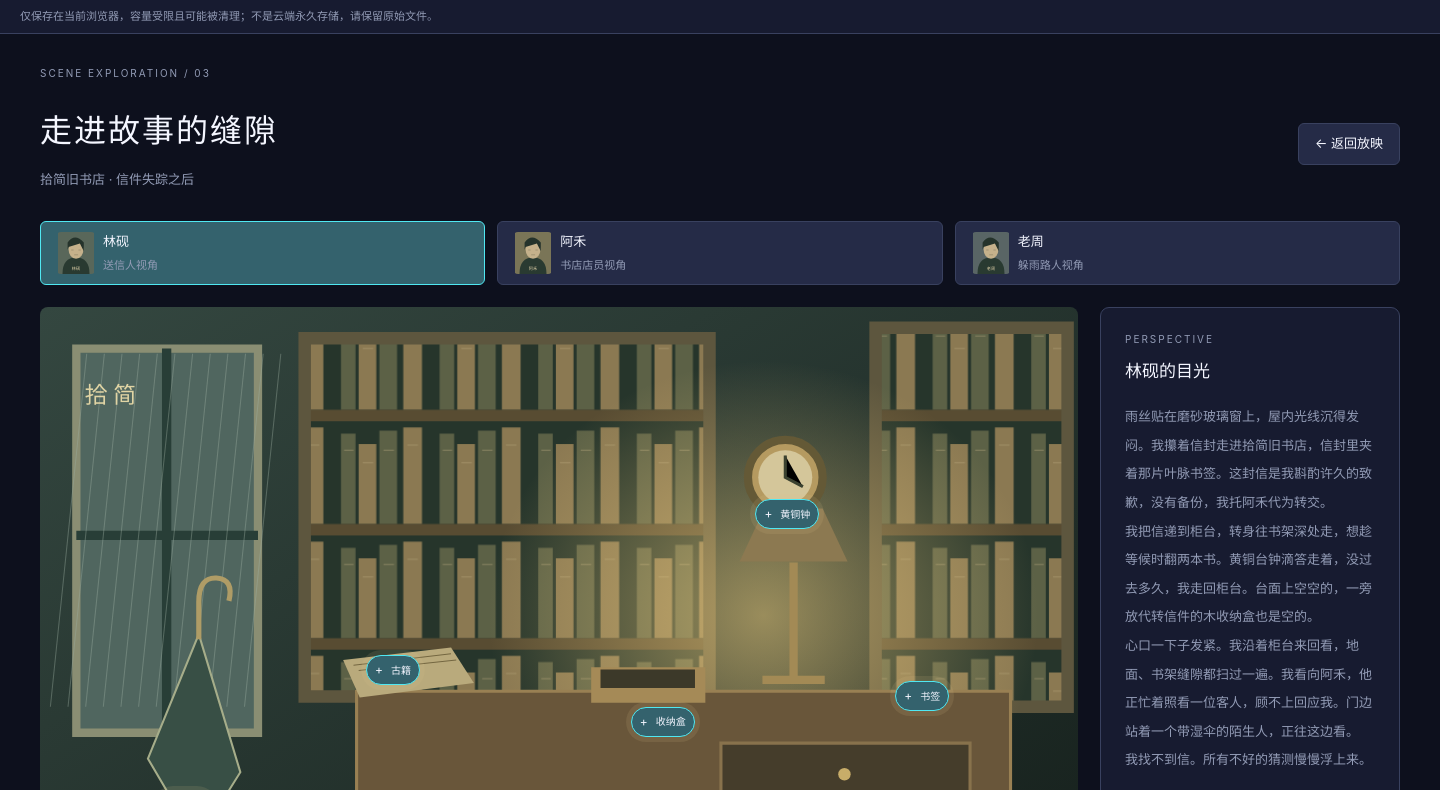
Test: 角色切换与客观线索正文一致
The image size is (1440, 790).
Click the button "阿禾": (533,253) [497,221,943,285]
(page scrolled)
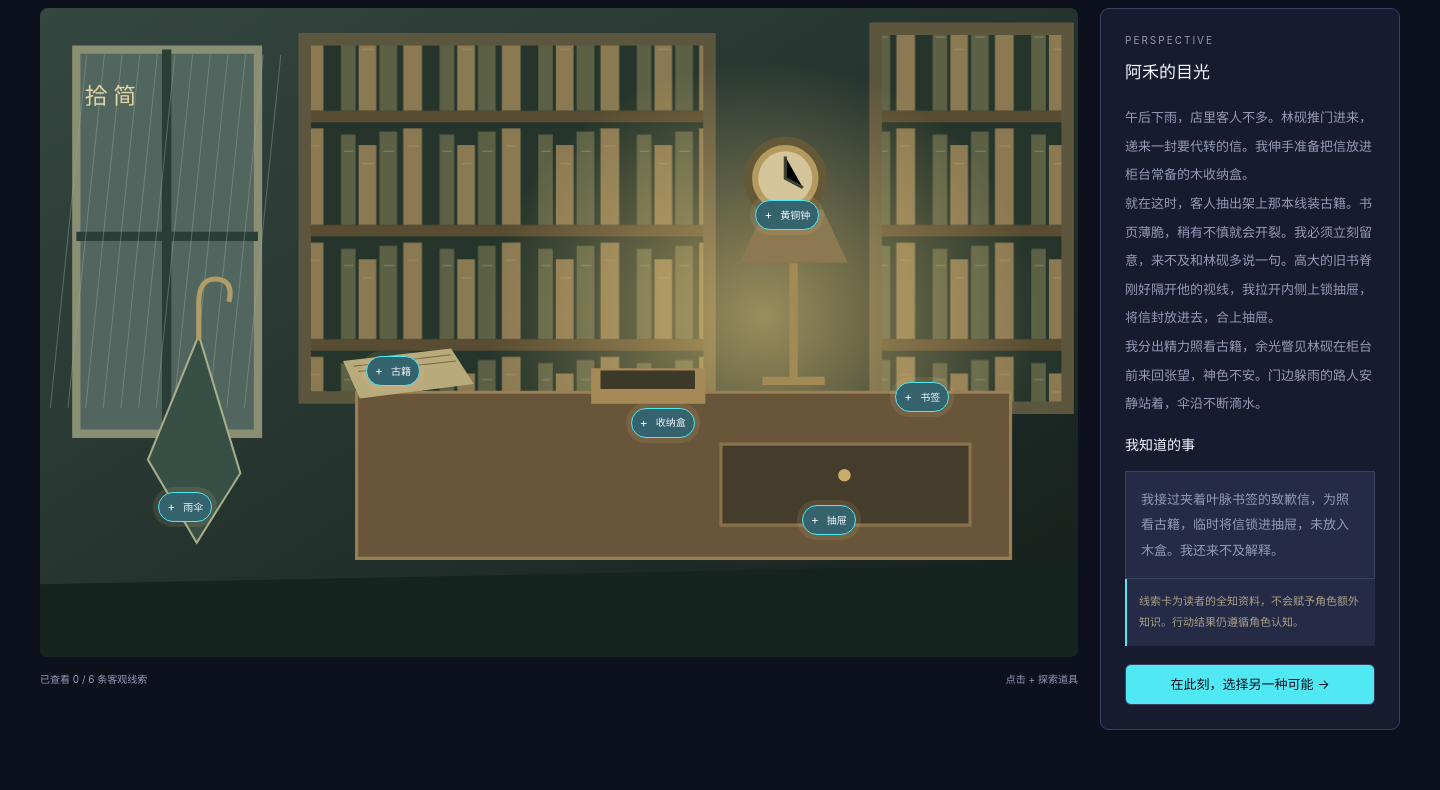
Check: the text "我接过夹着叶脉书签的致歉信，为照看古籍，临时将信锁进抽屉，未放入木盒。我还来不及解释。" is shown, box [1125,471,1375,579]
Click the button "+ 抽屉": (829,520) [802,505,856,535]
(page scrolled)
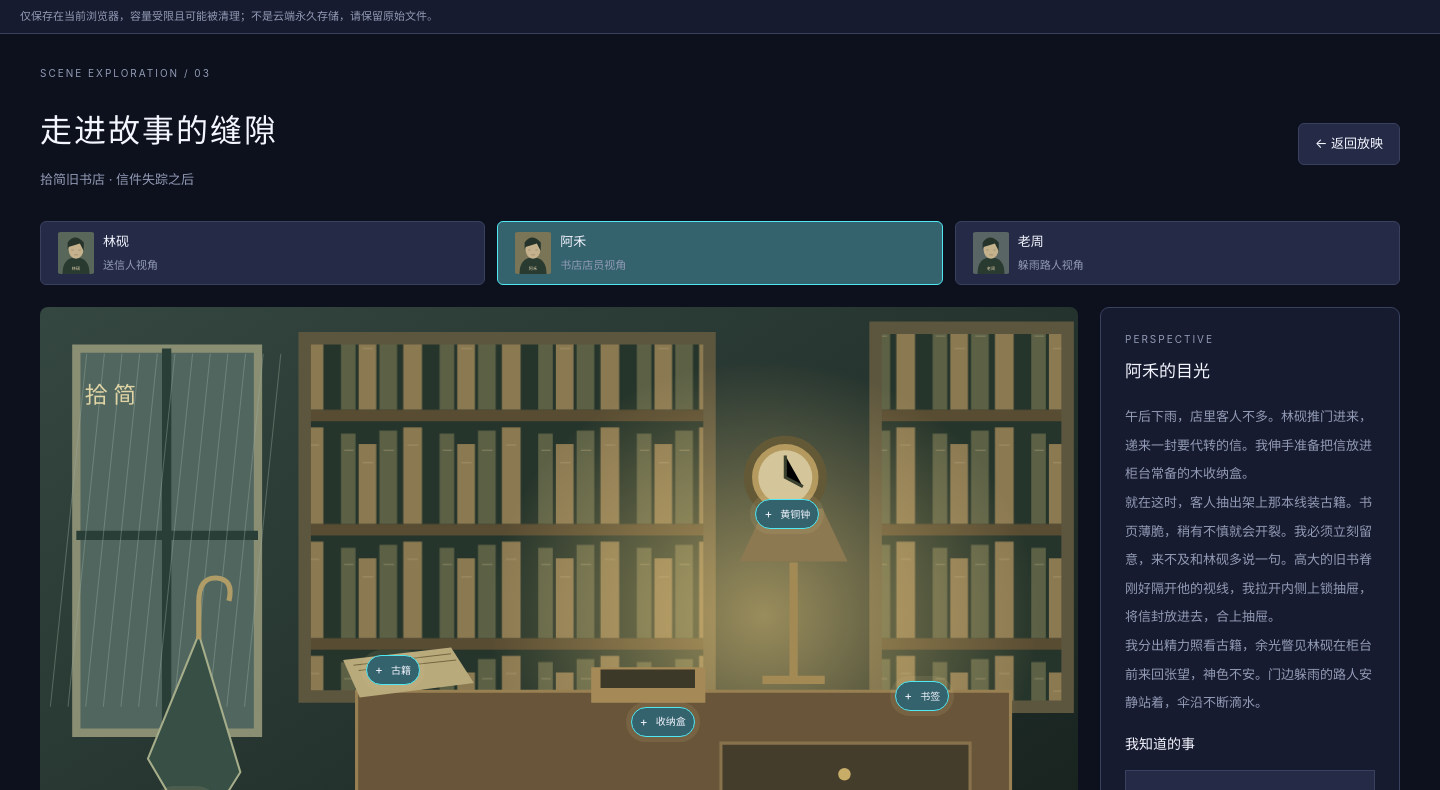
Click the button "老周": (991,253) [955,221,1400,285]
(page scrolled)
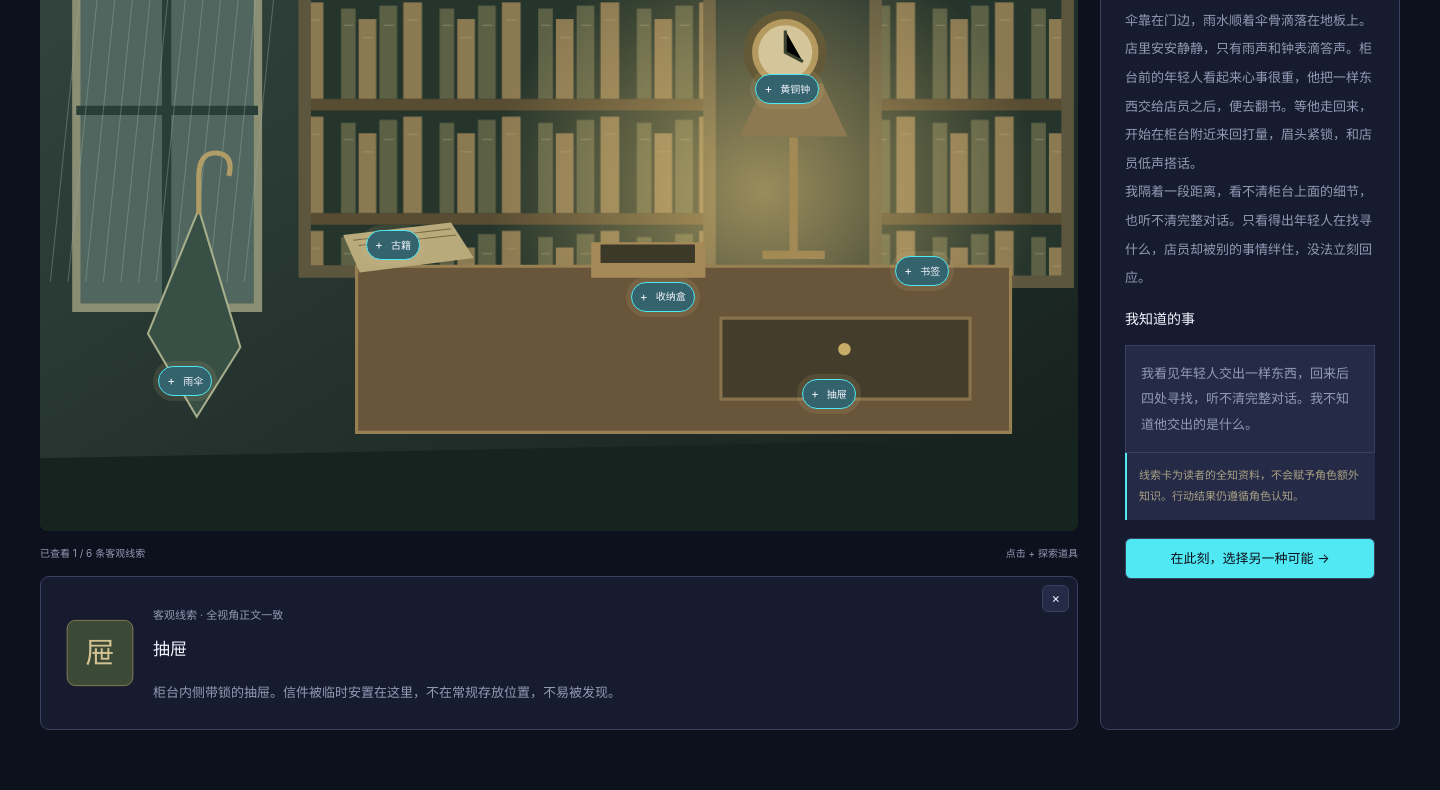
Check: the text "柜台内侧带锁的抽屉。信件被临时安置在这里，不在常规存放位置，不易被发现。" is shown, box [153,680,621,705]
Check: the text "我看见年轻人交出一样东西，回来后四处寻找，听不清完整对话。我不知道他交出的是什么。" is shown, box [1125,345,1375,453]
